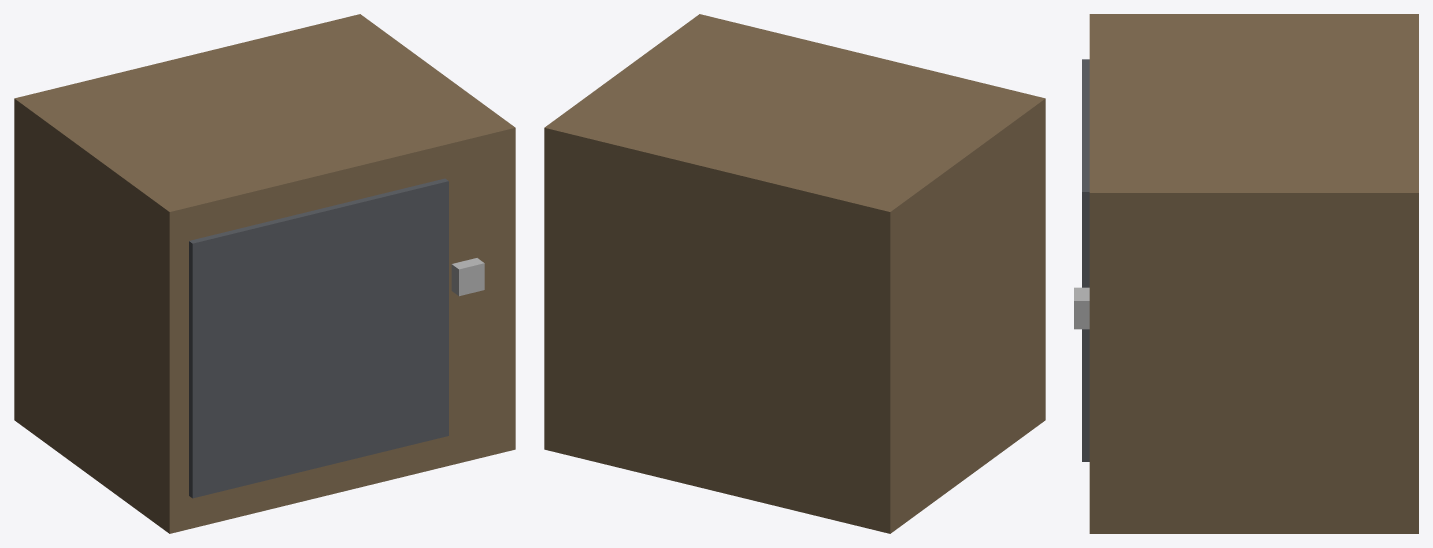
The model's file is televisionVintage.glb.
3 views of the same model, side by side, from view 1: azimuth 30°, elevation 25°; view 2: azimuth 150°, elevation 25°; view 3: azimuth 270°, elevation 25° (orthographic). The views are drawn at different scales.
Size of the model in its own units: 0.54 by 0.48 by 0.44.
